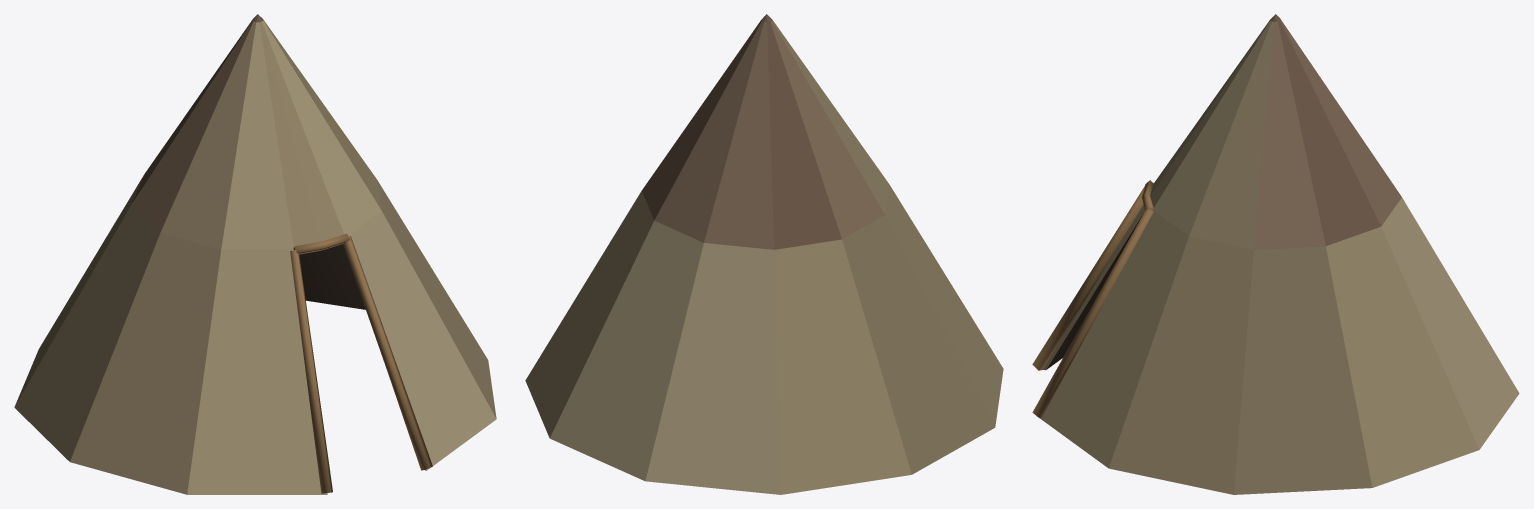
The model's file is conical_reed_hut_lod2.glb.
3 views of the same model, side by side, from view 1: azimuth 30°, elevation 25°; view 2: azimuth 150°, elevation 25°; view 3: azimuth 270°, elevation 25° (orthographic).
Parts seen in each view (by area): view 1: conical_reed_hut_lod2; view 2: conical_reed_hut_lod2; view 3: conical_reed_hut_lod2.
Boxes of the visible parts, x1,y1,x2,y2 form: conical_reed_hut_lod2: [14, 14, 496, 494]; conical_reed_hut_lod2: [525, 14, 1003, 494]; conical_reed_hut_lod2: [1032, 14, 1519, 494].
Size of the model in its own units: 4.04 by 3.53 by 4.1.
